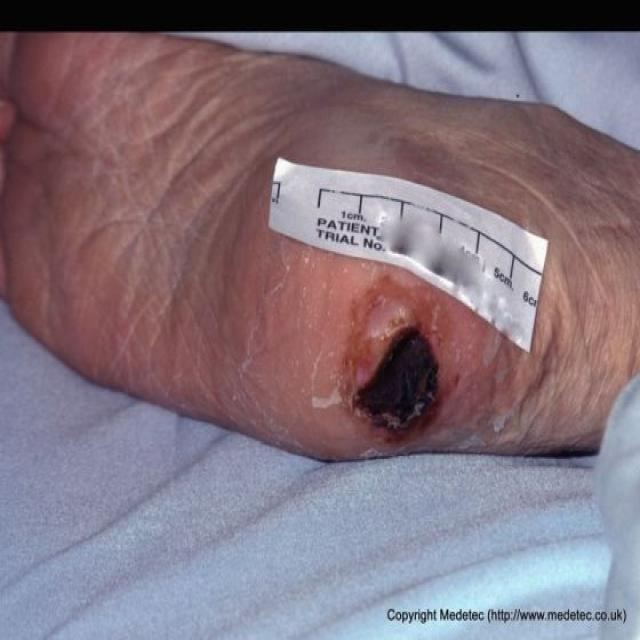Unstageable: (351, 327, 442, 441)
